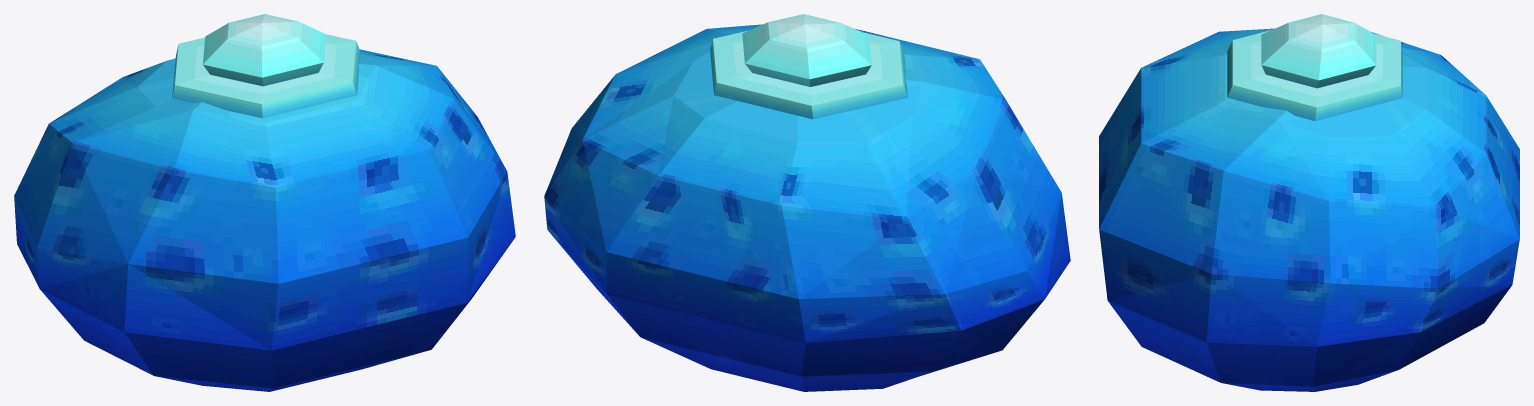
File: item_it04_02_OREN.dae
3 views of the same model, side by side, from view 1: azimuth 30°, elevation 25°; view 2: azimuth 150°, elevation 25°; view 3: azimuth 270°, elevation 25° (orthographic). The views are drawn at different scales.
Visible parts, largest first — view 1: vsn_mesh_0_polySurface2; view 2: vsn_mesh_0_polySurface2; view 3: vsn_mesh_0_polySurface2.
Part boxes in pixels (<box>): vsn_mesh_0_polySurface2: <box>14,14,515,391</box>; vsn_mesh_0_polySurface2: <box>544,14,1070,391</box>; vsn_mesh_0_polySurface2: <box>1099,14,1519,391</box>.
Bounding box in the file's own units: 0.3832 × 0.2705 × 0.3064.
1 material, 1 textured.
